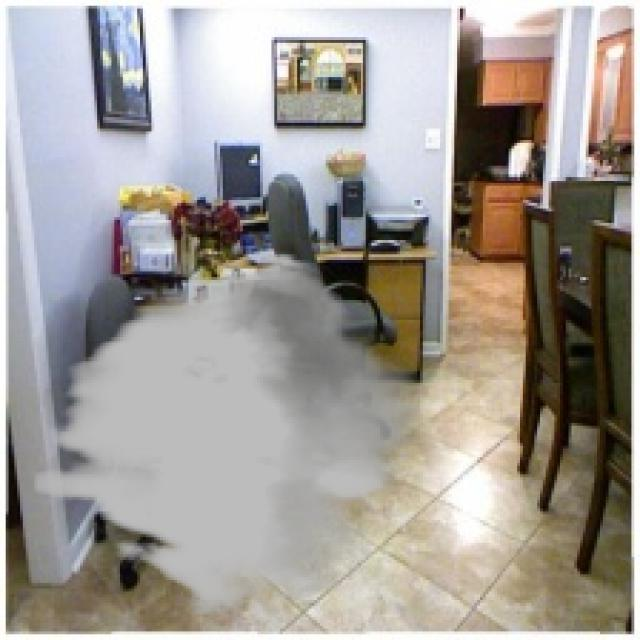smoke: (34, 252, 420, 617)
